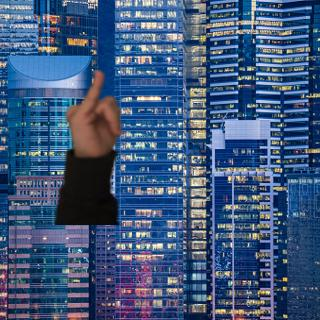HAVE: (55, 66, 129, 161)
